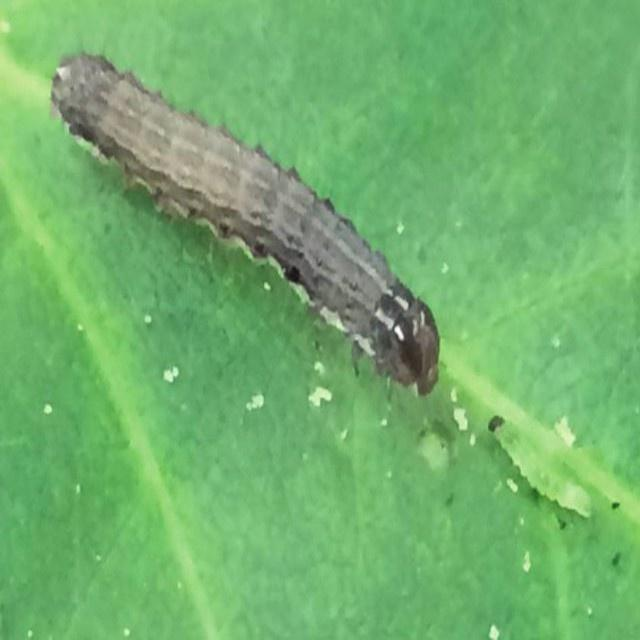gusano_cogollero: (51, 44, 442, 404)
